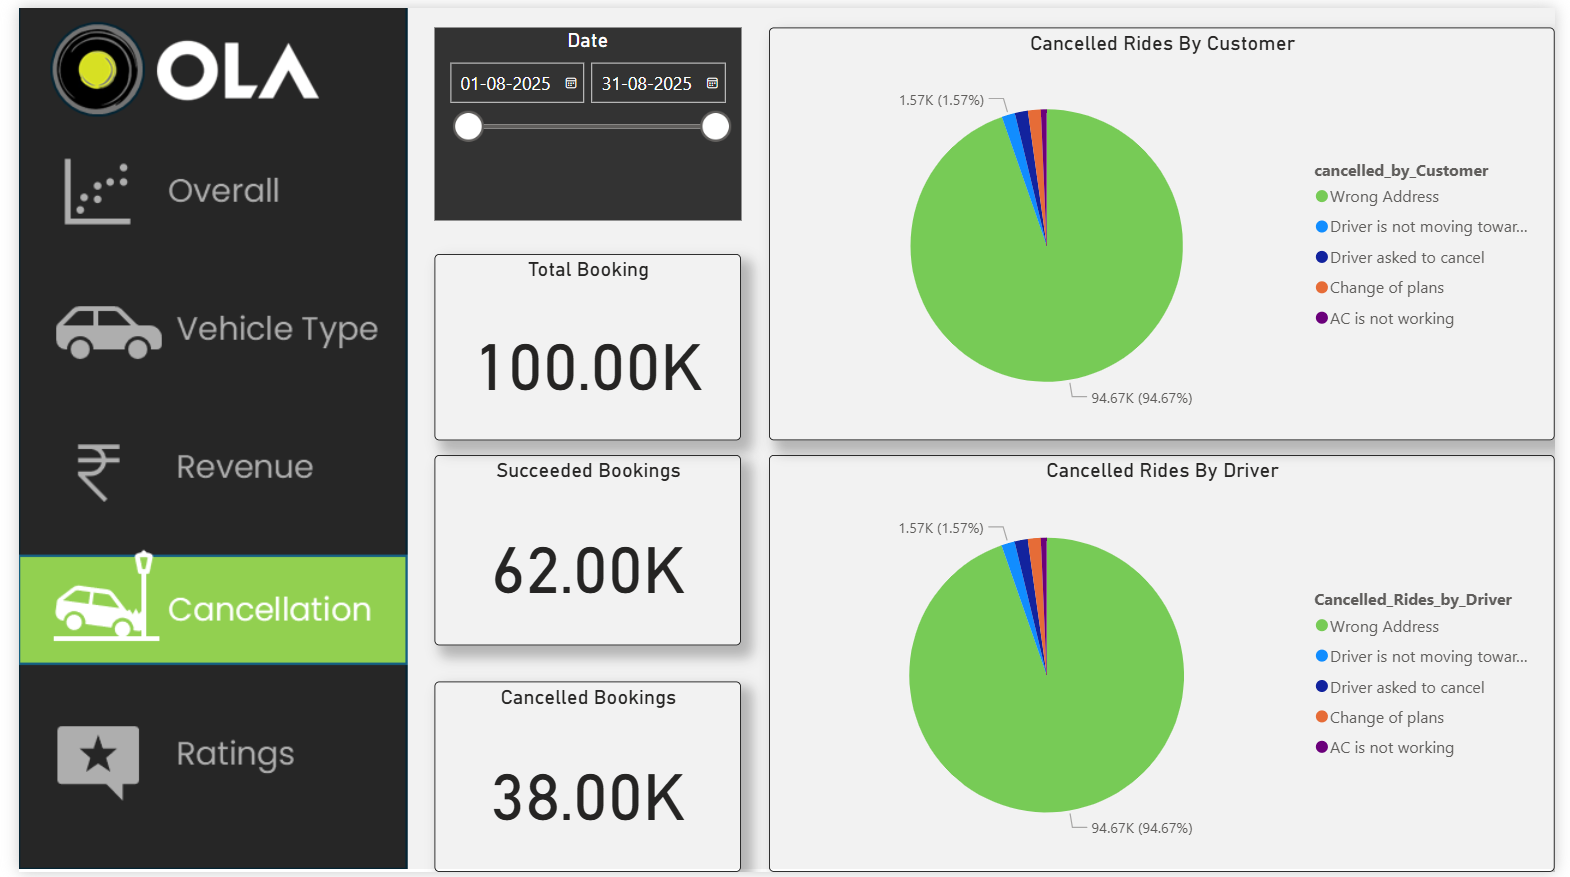

This screenshot's page, from the dashboard's own definition file:
{"tool":"powerbi","page":{"name":"Cancellation","canvas":[1280,720],"ordinal":3},"visuals":[{"type":"actionButton","box":[0,224,320,96],"z":0},{"type":"actionButton","box":[0,336,320,96],"z":1000},{"type":"actionButton","box":[0,448,320,96],"z":2000},{"type":"actionButton","box":[0,576,320,96],"z":3000},{"type":"actionButton","box":[0,96,320,96],"z":4000},{"type":"pieChart","title":"Cancelled Rides By Customer","fields":{"Category":["BookingData.Reason_for_cancelling_by_Customer"],"Y":["CountNonNull(BookingData.Reason_for_cancelling_by_Customer)"]},"box":[624.7,16.7,654.8,344.1],"z":5000},{"type":"pieChart","title":"Cancelled Rides By Driver","fields":{"Y":["CountNonNull(BookingData.Booking_Status)"],"Category":["BookingData.Cancelled_Rides_by_Driver"]},"box":[624.7,372.5,654.8,347.4],"z":6000},{"type":"slicer","title":"Date","fields":{"Values":["BookingData.Date"]},"box":[345.8,16.7,255.6,160.3],"z":6001},{"type":"card","title":"Total Booking","fields":{"Values":["CountNonNull(BookingData.Booking_ID)"]},"box":[345.8,205.4,255.6,155.3],"z":6002},{"type":"card","title":"Succeeded Bookings","fields":{"Values":["CountNonNull(BookingData.Booking_ID)"]},"box":[345.8,372.5,255.6,158.7],"z":6003},{"type":"card","title":"Cancelled Bookings","fields":{"Values":["CountNonNull(BookingData.Booking_ID)"]},"box":[345.8,561.2,255.6,158.7],"z":6004}]}

Visuals, with their boxes in screenshot pixels (x1, y1, x2, y2), scaled from the page's 1280x720 canvas onto the 1570x877 screenshot:
actionButton: box=[0, 273, 392, 390]
actionButton: box=[0, 409, 392, 526]
actionButton: box=[0, 546, 392, 663]
actionButton: box=[0, 702, 392, 819]
actionButton: box=[0, 117, 392, 234]
"Cancelled Rides By Customer" pieChart: box=[766, 20, 1569, 439]
"Cancelled Rides By Driver" pieChart: box=[766, 454, 1569, 876]
"Date" slicer: box=[424, 20, 738, 216]
"Total Booking" card: box=[424, 250, 738, 439]
"Succeeded Bookings" card: box=[424, 454, 738, 647]
"Cancelled Bookings" card: box=[424, 684, 738, 876]
